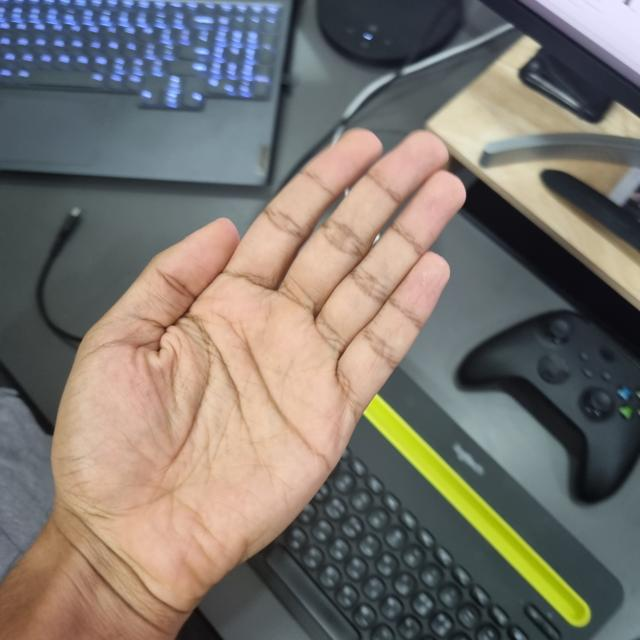Paper: (54, 222, 356, 573)
